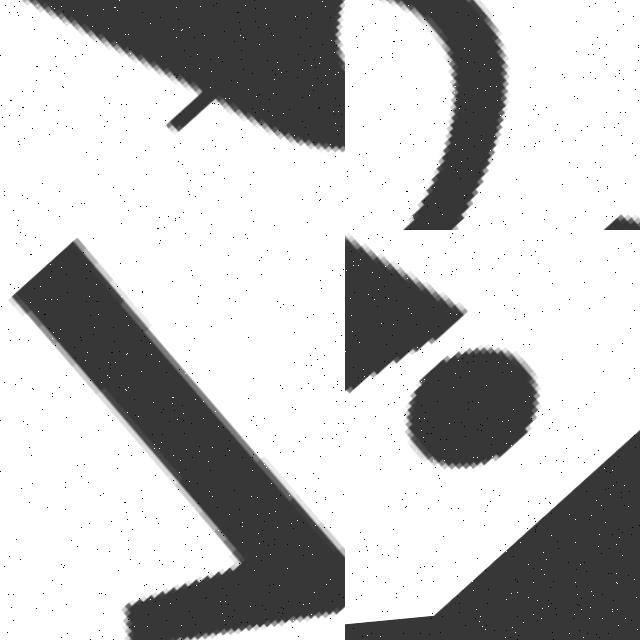1: (0, 230, 345, 640)
5: (345, 0, 640, 230)
F: (0, 0, 345, 230)
I: (345, 230, 611, 585)
